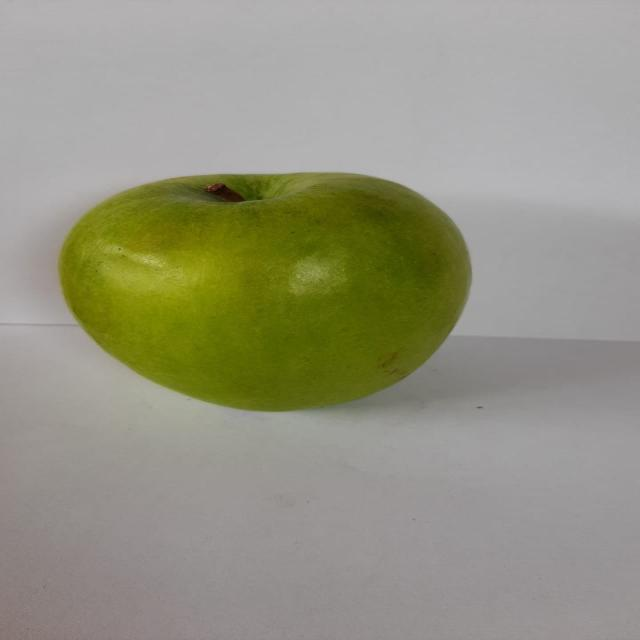50-_ripeness: (43, 154, 487, 425)
